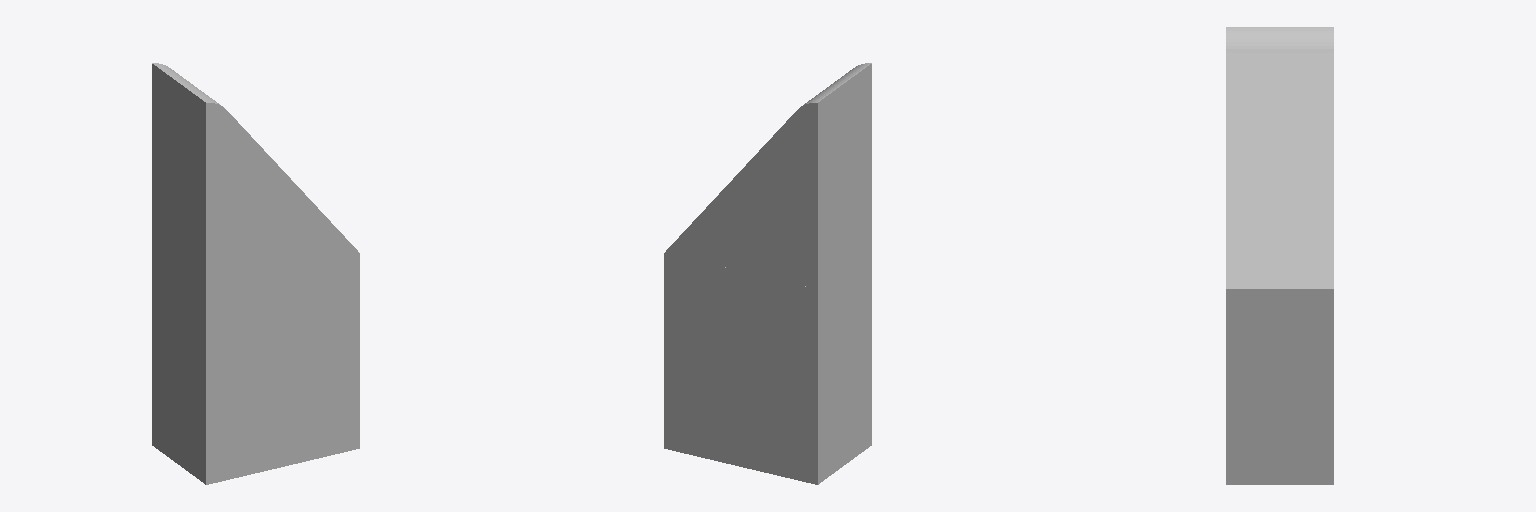
Rendered from rafti_finger_collision_5.obj.
3 renders of one model, left to right at view 1: azimuth 30°, elevation 25°; view 2: azimuth 150°, elevation 25°; view 3: azimuth 270°, elevation 25°, orthographic.
Visible parts, largest first — view 1: Cylinder.005; view 2: Cylinder.005; view 3: Cylinder.005.
Boxes of the visible parts, <box> form: Cylinder.005: <box>152,63,359,484</box>; Cylinder.005: <box>664,63,871,484</box>; Cylinder.005: <box>1226,27,1333,484</box>.
Bounding box in the file's own units: 0.0182 × 0.0434 × 0.0111.